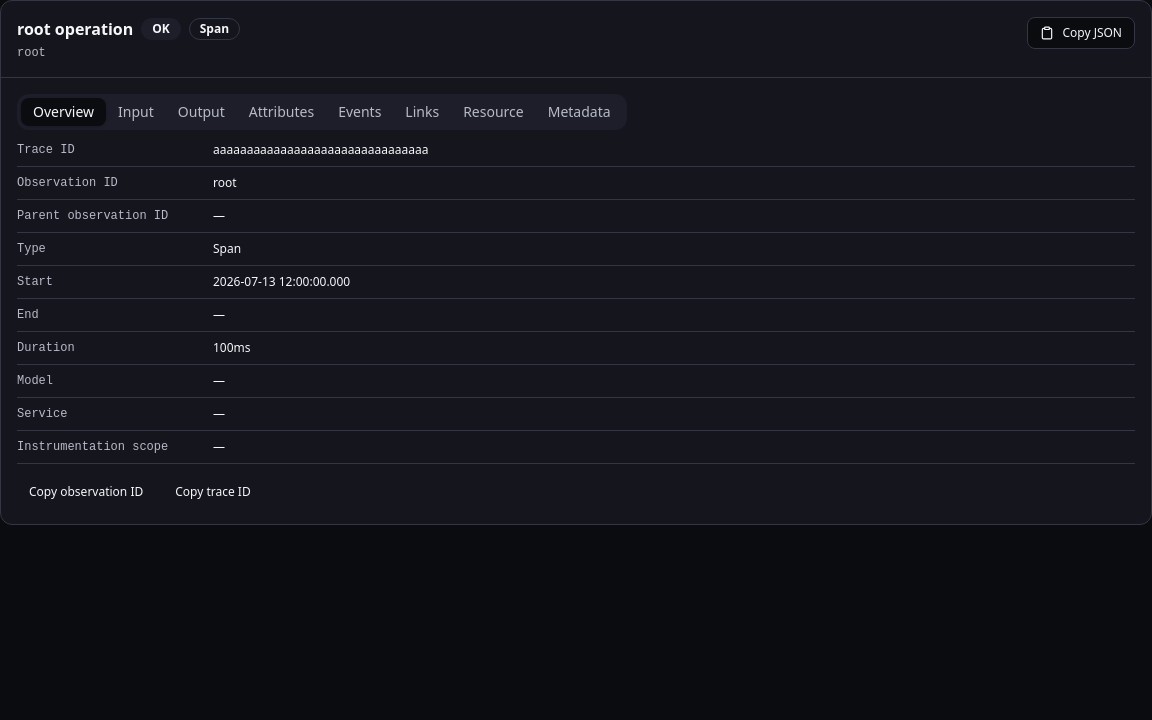
Scenario: ObservationDetailPanel JSON tree › renders object-valued attributes as a nested JSON tree
Click the tab "Attributes" at (282, 112), box left=237, top=98, right=326, bottom=126
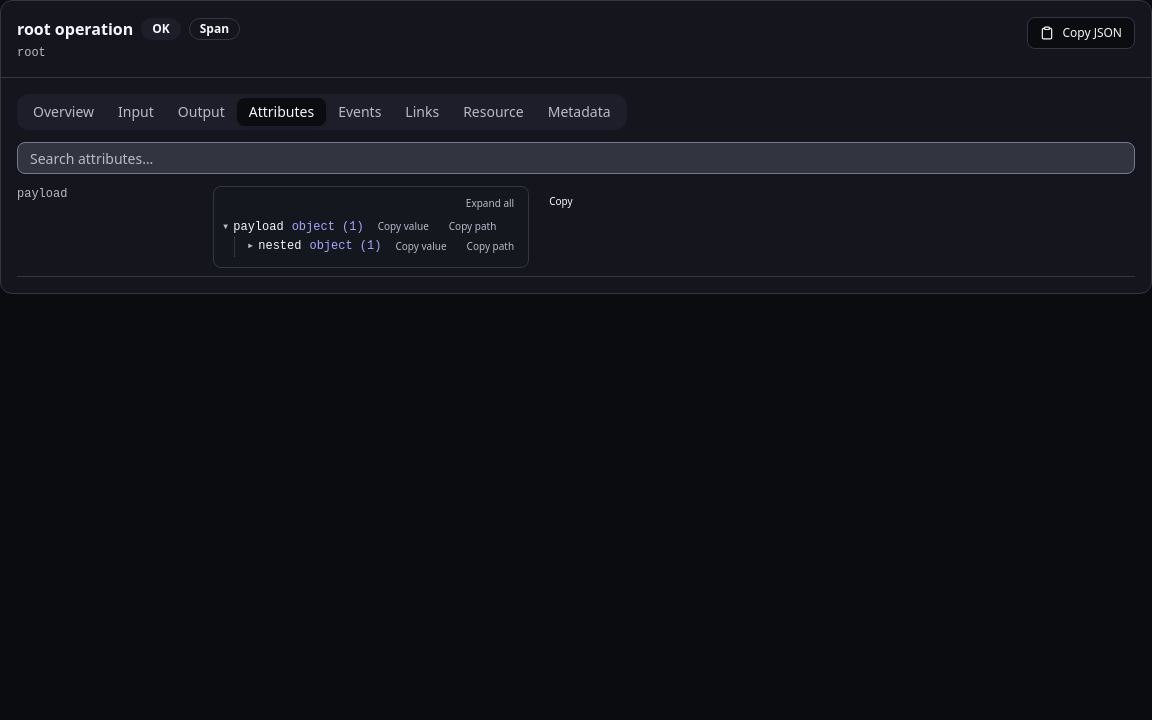
Click the button with aria-label "Expand $.nested" at (274, 246), box left=247, top=238, right=302, bottom=254
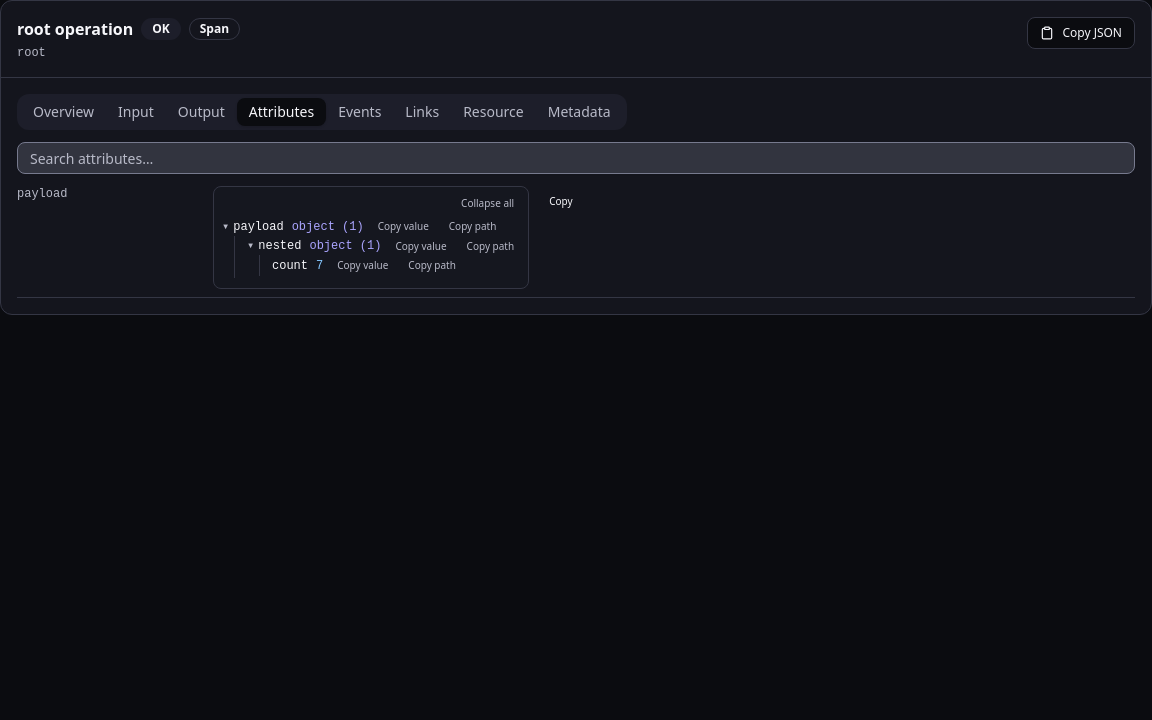
Expected: the text "7" is shown, left=316, top=258, right=323, bottom=274
